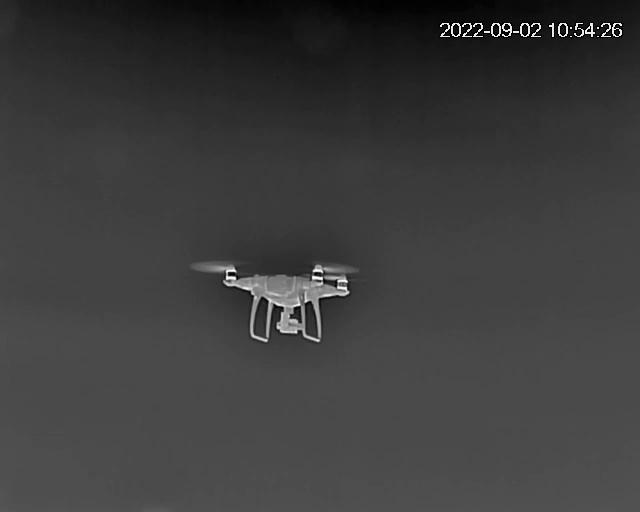DJI-Phantom: (192, 260, 369, 343)
